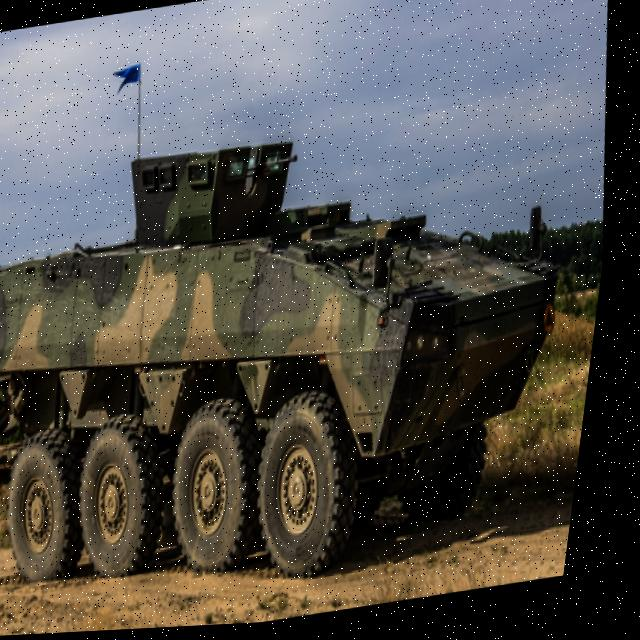MIL_APC: (0, 85, 629, 640)
